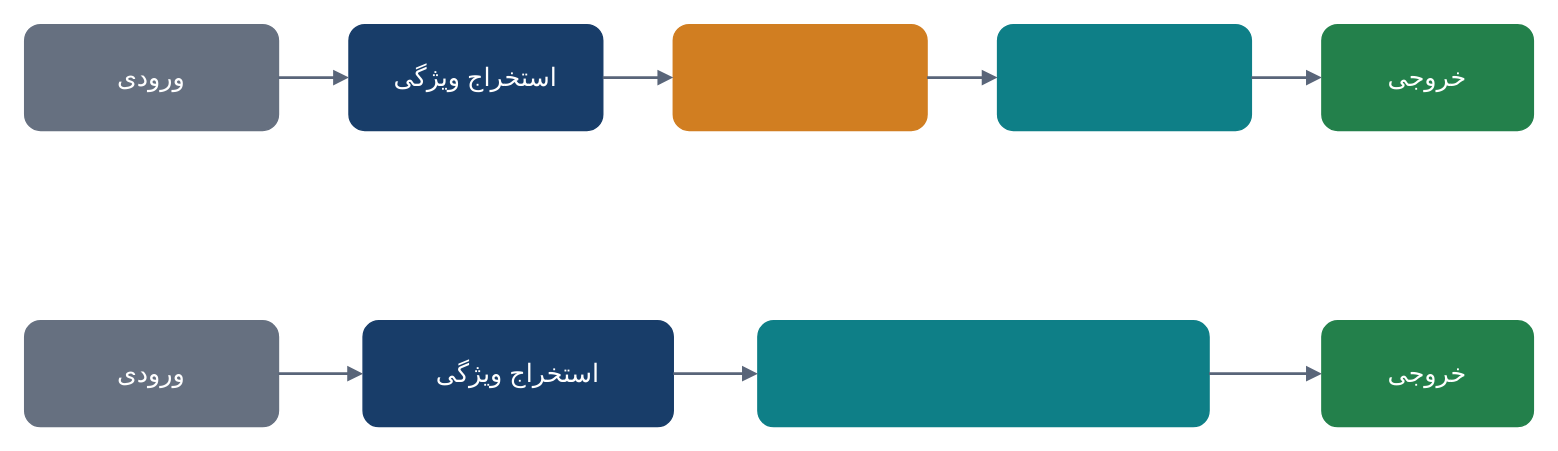
This 1558x451 diagram has some shape labels left out. Each missing label, with the box of its shape:
رده‌بندی و کادر: (996, 23, 1251, 130)
پیشنهاد ناحیه: (672, 23, 927, 130)
پیش‌بینی هم‌زمان کادر و رده: (756, 319, 1209, 427)
